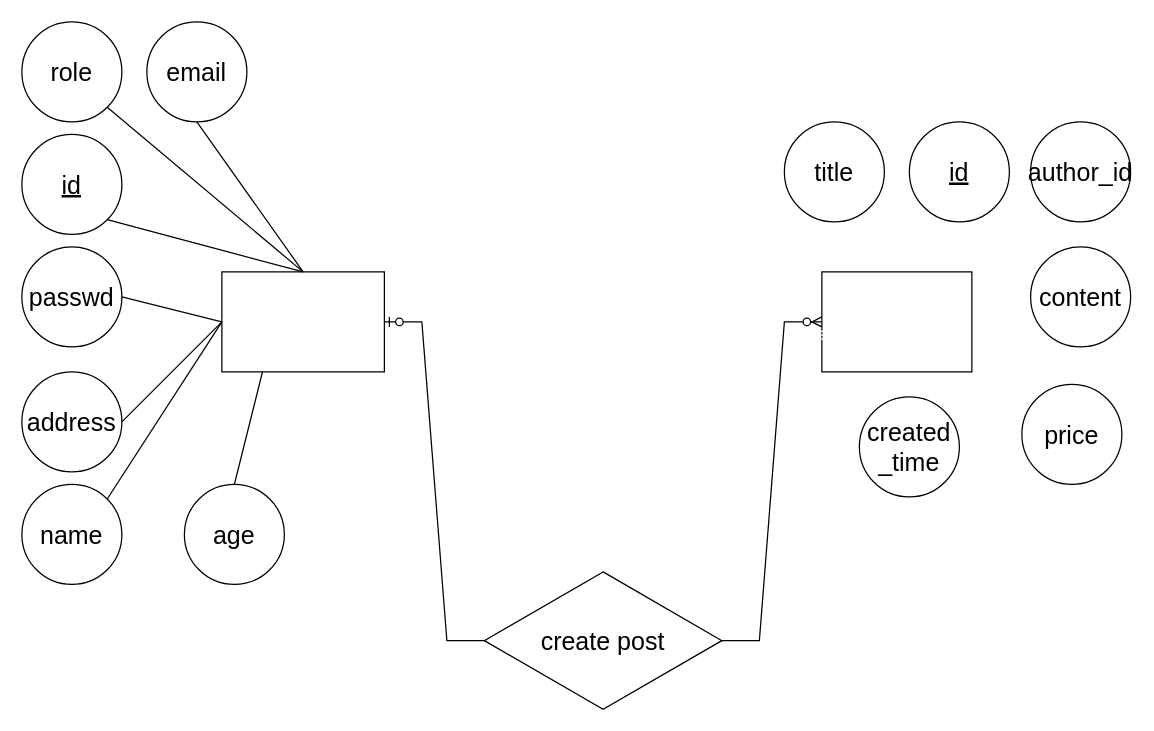
This 1154x731 diagram has some shape labels left out. Here are the shapes that lost their labels. From the top down, the centre of each, then its label:
the point at 302,321: author
the point at 896,321: post
